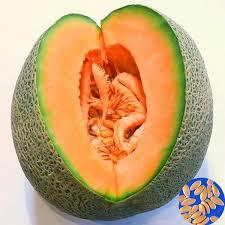Melon Ripe: (11, 4, 213, 221)
